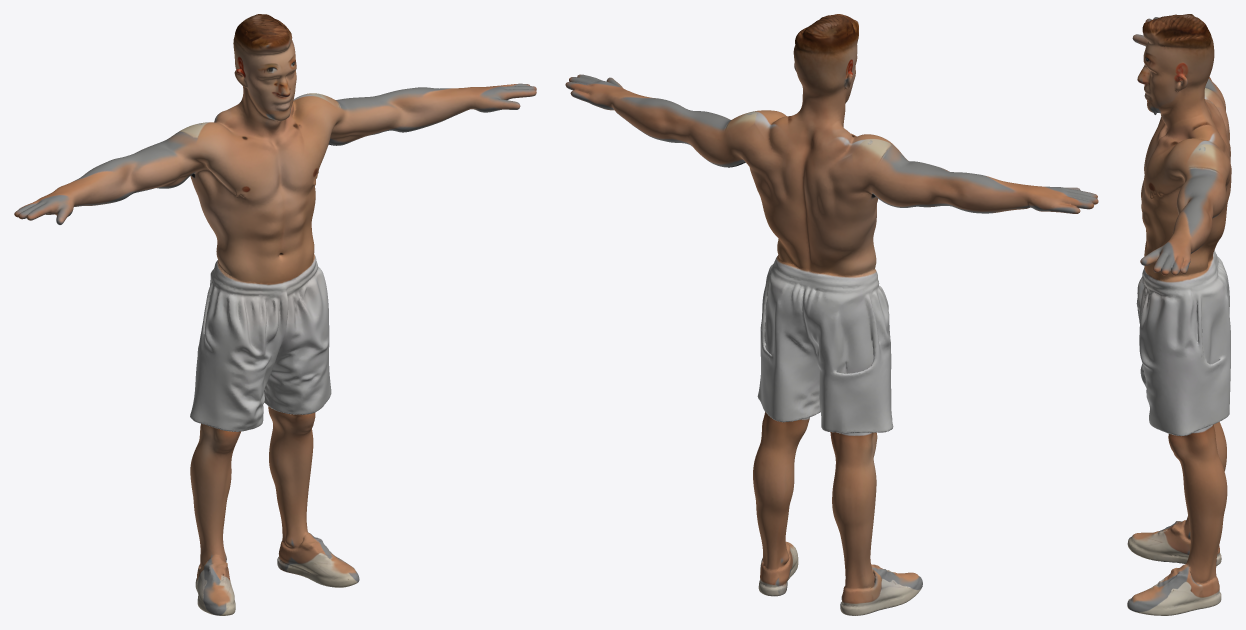
File: rize.glb
3 views of the same model, side by side, from view 1: azimuth 30°, elevation 25°; view 2: azimuth 150°, elevation 25°; view 3: azimuth 270°, elevation 25° (orthographic).
Parts seen in each view (by area): view 1: tripo_node_7ca279aa-be7f-48ac-972d-5607060e45d0; view 2: tripo_node_7ca279aa-be7f-48ac-972d-5607060e45d0; view 3: tripo_node_7ca279aa-be7f-48ac-972d-5607060e45d0.
Part boxes in pixels (x1=…): tripo_node_7ca279aa-be7f-48ac-972d-5607060e45d0: x1=14, y1=14, x2=536, y2=615; tripo_node_7ca279aa-be7f-48ac-972d-5607060e45d0: x1=565, y1=14, x2=1098, y2=615; tripo_node_7ca279aa-be7f-48ac-972d-5607060e45d0: x1=1127, y1=14, x2=1231, y2=615.
Size of the model in its own units: 0.9607 by 1 by 0.1674.
Materials: 1 (1 with a texture image).
